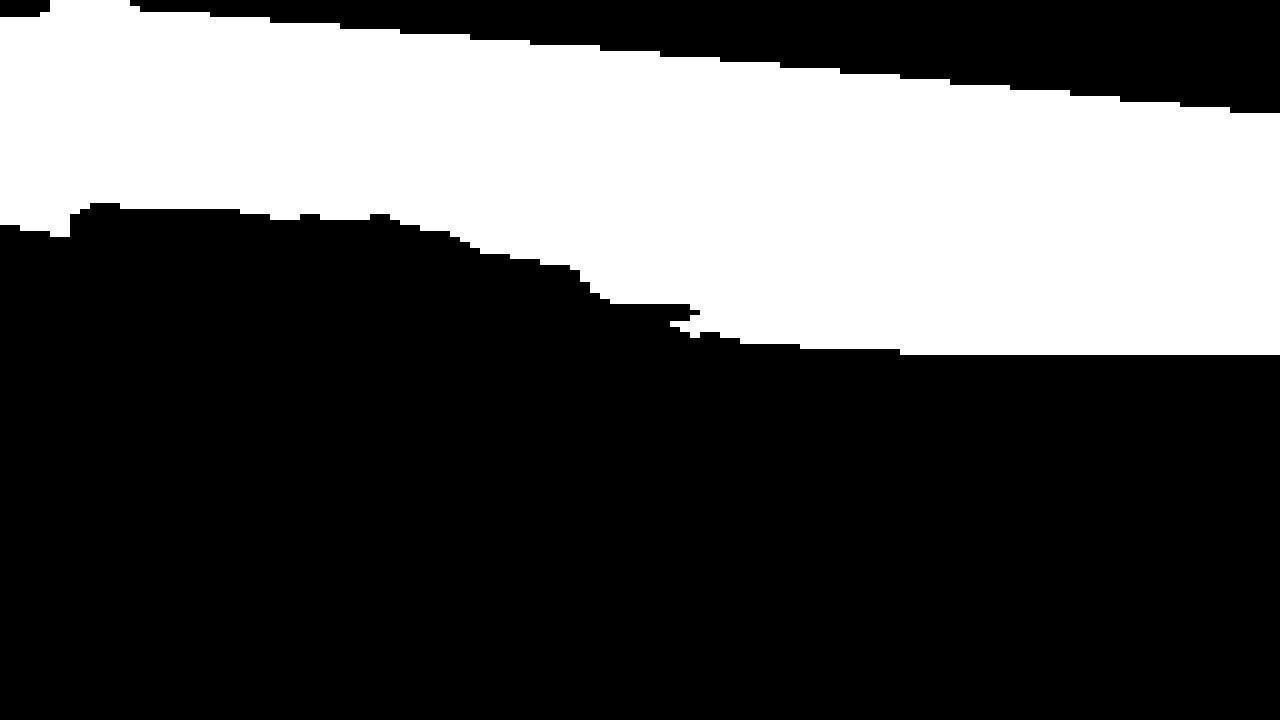Turbine: (8, 9, 1277, 366)
